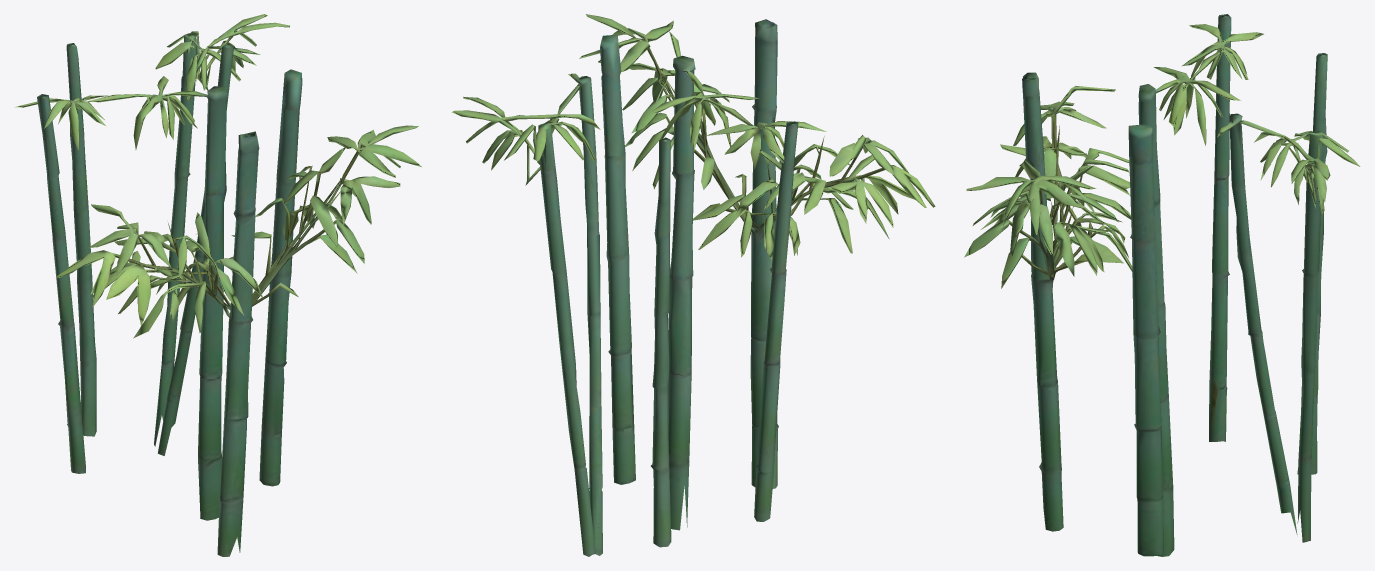
The model's file is bamboo_trim.glb.
The picture shows the model from 3 angles, left to right: view 1: azimuth 30°, elevation 25°; view 2: azimuth 150°, elevation 25°; view 3: azimuth 270°, elevation 25°; orthographic projection. The views are drawn at different scales.
Parts seen in each view (by area): view 1: tripo_node_9ee181ba-234c-4840-aab7-b74bf9d65f89; view 2: tripo_node_9ee181ba-234c-4840-aab7-b74bf9d65f89; view 3: tripo_node_9ee181ba-234c-4840-aab7-b74bf9d65f89.
Part boxes in pixels (x1,y1,x2,y2): tripo_node_9ee181ba-234c-4840-aab7-b74bf9d65f89: (14,14,421,556); tripo_node_9ee181ba-234c-4840-aab7-b74bf9d65f89: (451,14,935,556); tripo_node_9ee181ba-234c-4840-aab7-b74bf9d65f89: (964,14,1360,556).
Bounding box in the file's own units: 0.6029 × 0.7291 × 0.5657.
Materials: 1 (1 with a texture image).
